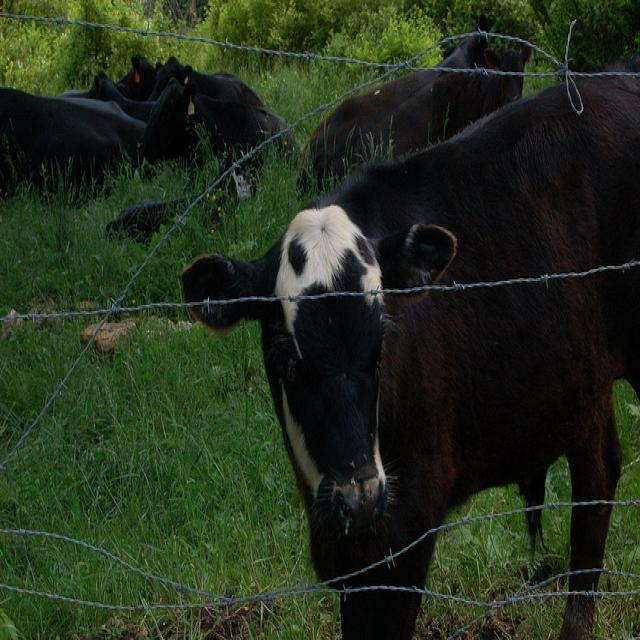cow: (181, 68, 639, 630), (293, 12, 491, 194), (136, 62, 300, 204), (0, 83, 151, 209), (432, 59, 526, 152), (147, 51, 265, 104), (53, 66, 153, 114), (116, 51, 155, 104)
